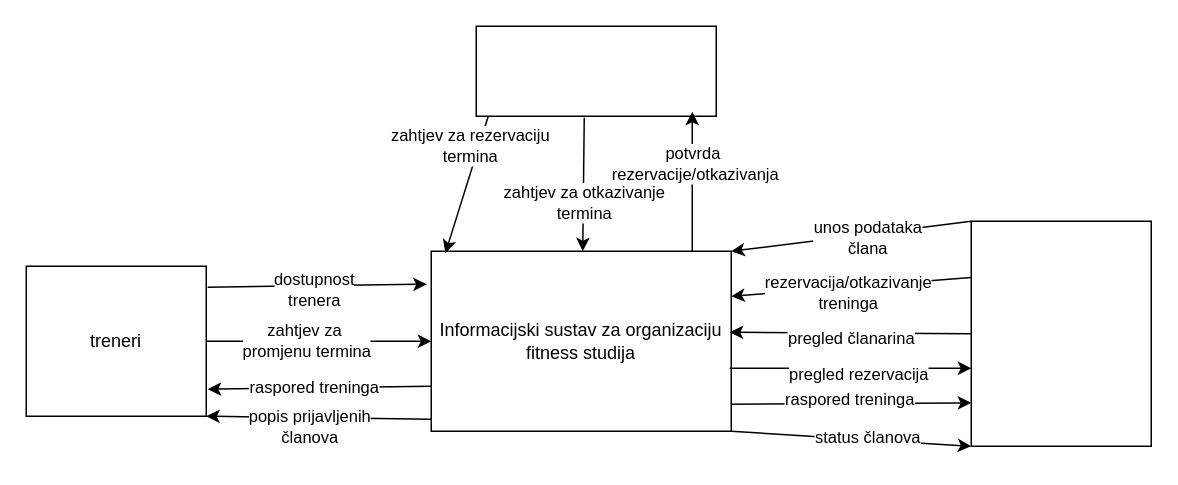
Image size: 1178x485. Some labels were removed from this diagram. The centre of each missing label's shape, as x and y in pixels:
"recepcija" goes at [1060,333].
"članovi" goes at [595,70].
